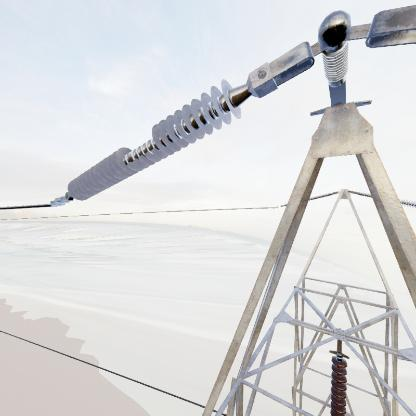insulator: (65, 74, 243, 209)
